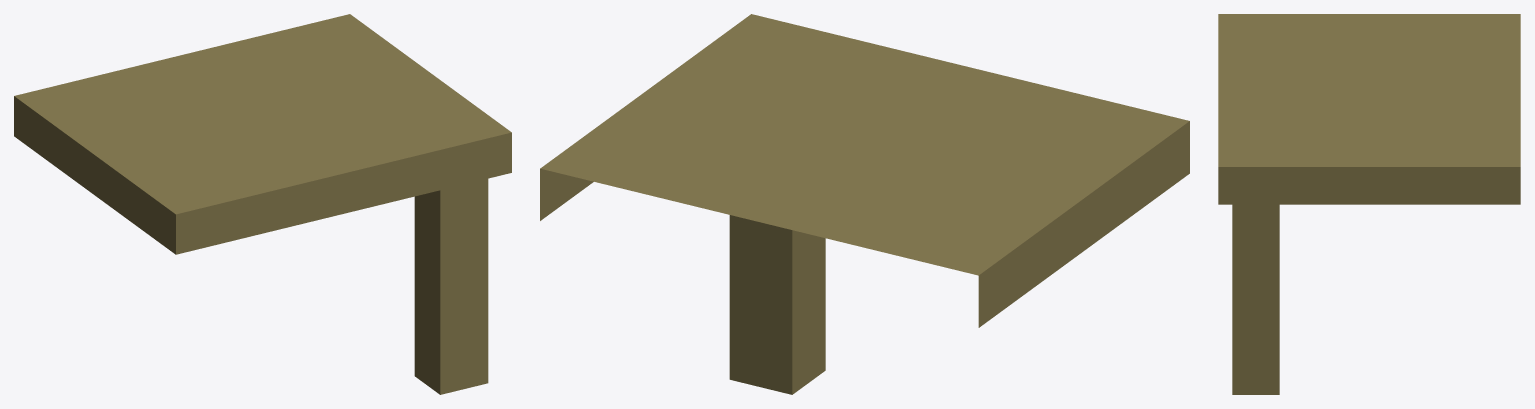
The model's file is Table.fbx.
The picture shows the model from 3 angles, left to right: view 1: azimuth 30°, elevation 25°; view 2: azimuth 150°, elevation 25°; view 3: azimuth 270°, elevation 25°; orthographic projection. The views are drawn at different scales.
Parts seen in each view (by area): view 1: polySurface21, polySurface20; view 2: polySurface21, polySurface20; view 3: polySurface21, polySurface20.
Boxes of the visible parts, x1,y1,x2,y2 form: polySurface21: [14, 14, 511, 254]; polySurface20: [414, 178, 488, 394]; polySurface21: [540, 14, 1189, 327]; polySurface20: [729, 215, 825, 394]; polySurface21: [1218, 14, 1520, 204]; polySurface20: [1232, 204, 1279, 394].
Size of the model in its own units: 2.34 by 1.68 by 1.95.
